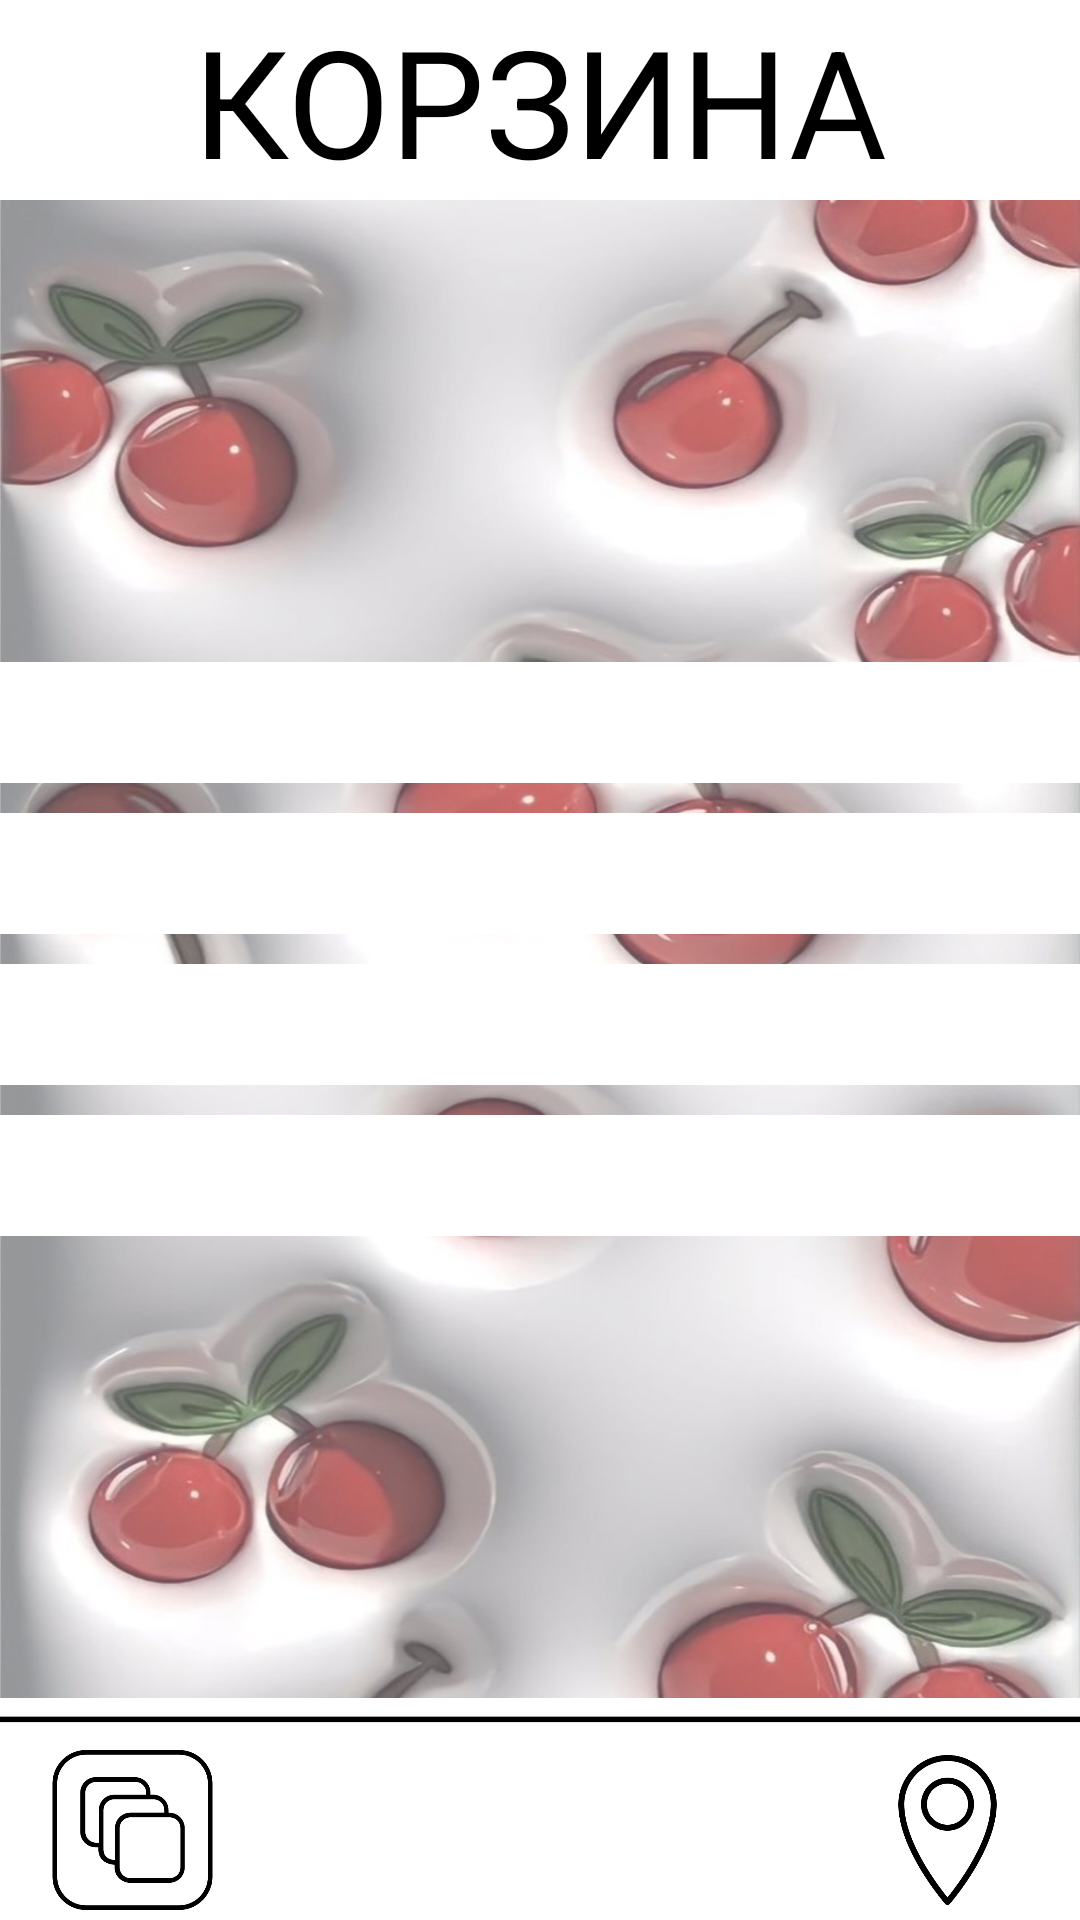

Icons on this 1080*1920 Android screen, each with the point to tap as (x,y):
katalog: (132,1830)
maps: (947,1830)
